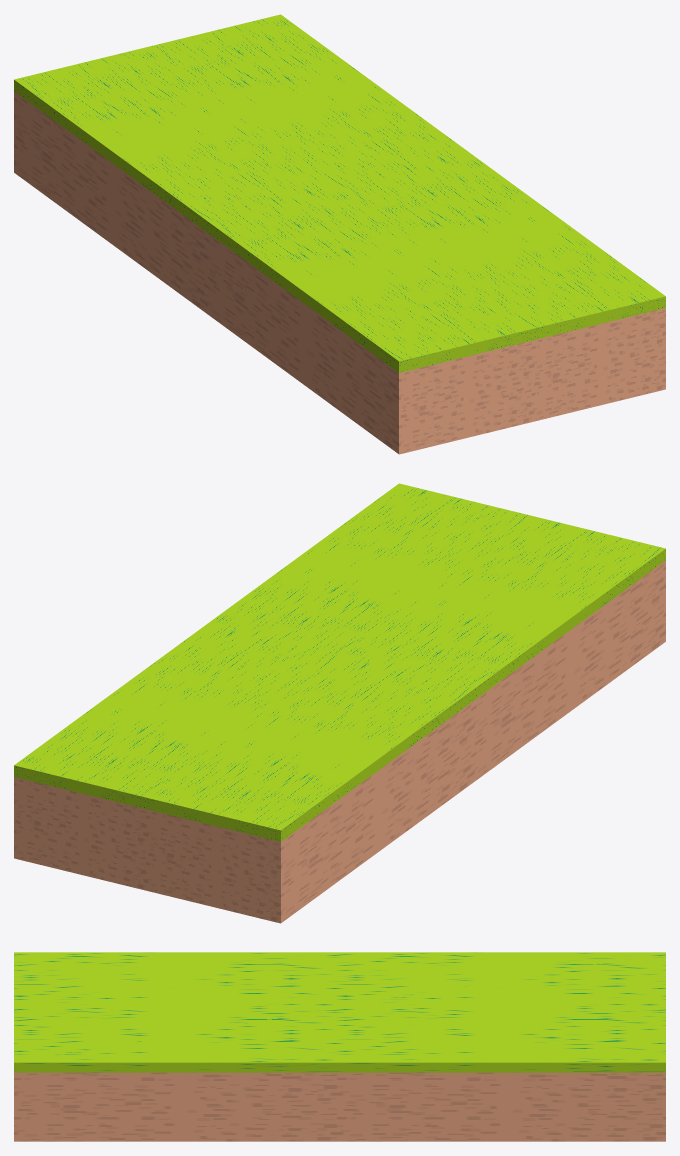
The model's file is TitleStageMap.gltf.
3 views of the same model, one above another, from view 1: azimuth 30°, elevation 25°; view 2: azimuth 150°, elevation 25°; view 3: azimuth 270°, elevation 25° (orthographic). The views are drawn at different scales.
Parts seen in each view (by area): view 1: Cube.001; view 2: Cube.001; view 3: Cube.001.
Part boxes in pixels (box(x1,y1,x2,y2)): Cube.001: box(14, 14, 665, 454); Cube.001: box(14, 483, 665, 923); Cube.001: box(14, 952, 665, 1141).
Bounding box in the file's own units: 12 × 4 × 30.
2 materials, 2 textured.
